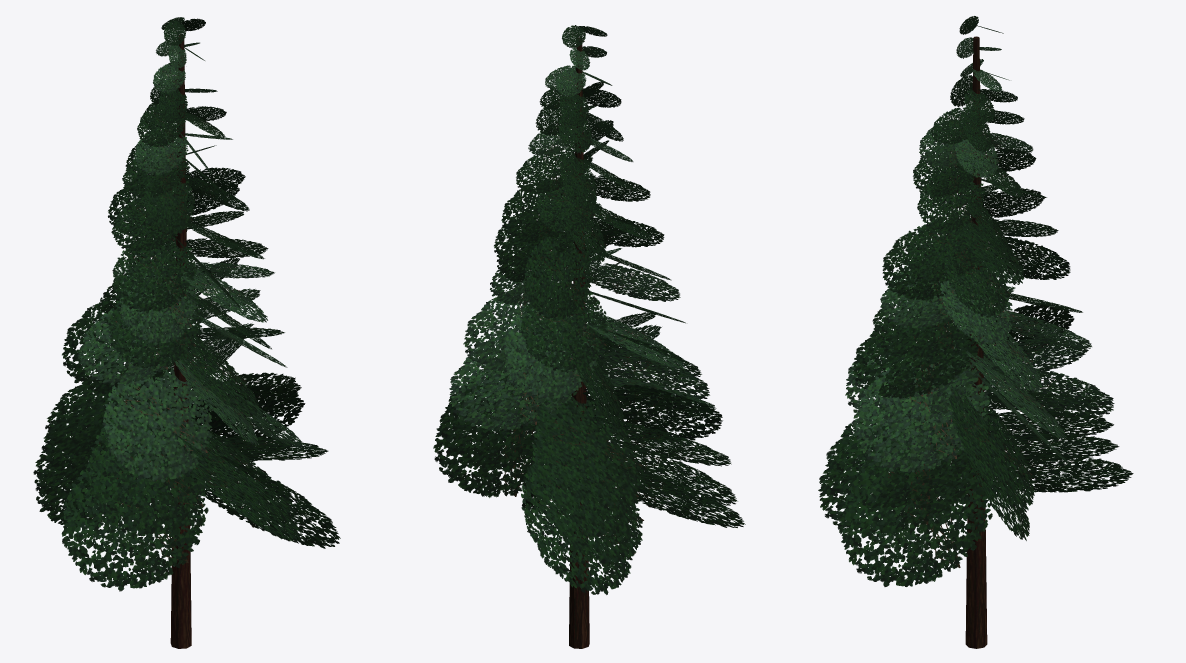
Rendered from cedar_a.glb.
3 views of the same model, side by side, from view 1: azimuth 30°, elevation 25°; view 2: azimuth 150°, elevation 25°; view 3: azimuth 270°, elevation 25° (orthographic).
Visible parts, largest first — view 1: cedar; view 2: cedar; view 3: cedar.
Boxes of the visible parts, <box> form: cedar: <box>33,17,340,648</box>; cedar: <box>433,25,745,648</box>; cedar: <box>818,16,1133,648</box>.
Size of the model in its own units: 13.36 by 23.6 by 13.02.
Materials: 3 (3 with a texture image).
